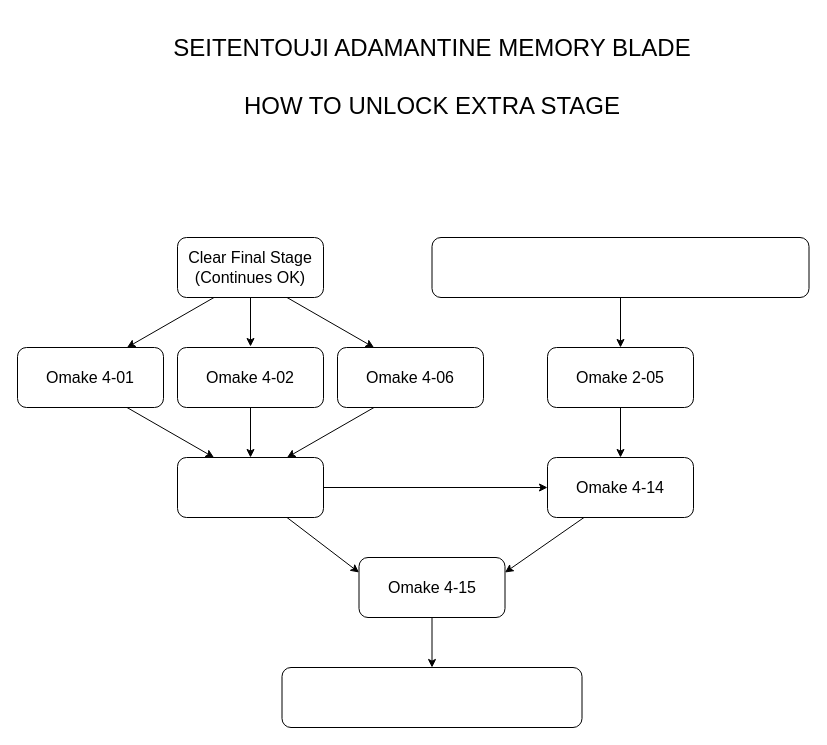
The diagram is 827 pixels wide and 745 high, and some of its shapes have lost their labels. The shapes that lost their labels are listed below. From the top down, each one's box as (x1, y1, x2, y2) in pixels, then its label:
(431, 236, 809, 298): Capture Taro's Last Spell (024-027) on any difficulty (ExAttack Practice OK)
(176, 456, 324, 518): Omake 4-13
(281, 666, 582, 728): EXTRA STAGE UNLOCKED
